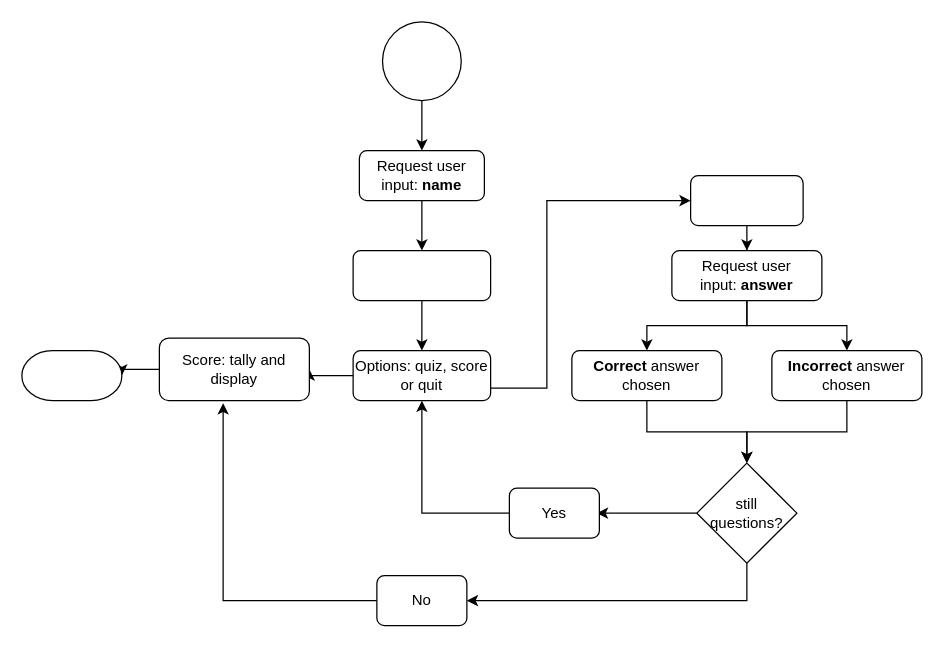
Image size: 944x648. Some labels were removed from this diagram. The centre of each missing label's shape, as x and y in pixels:
"Quit: abort" belongs at pixel 71 375.
"Quiz: display question" belongs at pixel 746 200.
"Start" belongs at pixel 421 61.
"Welcome prompt" belongs at pixel 421 275.
